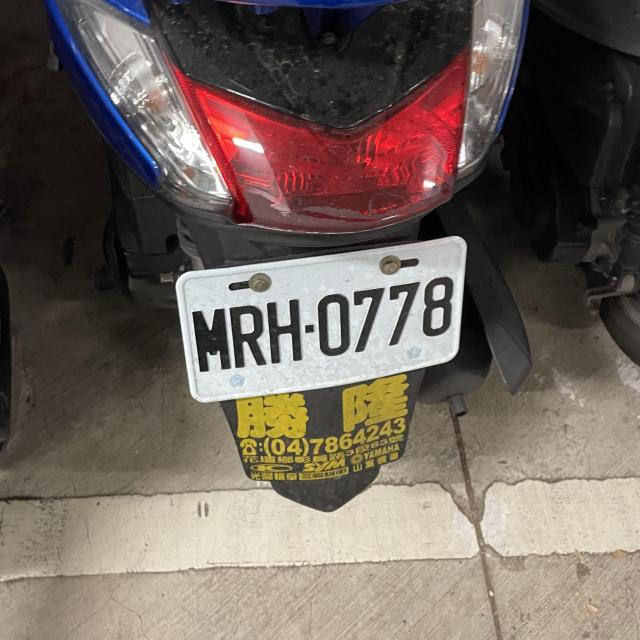W: (168, 235, 476, 406)
